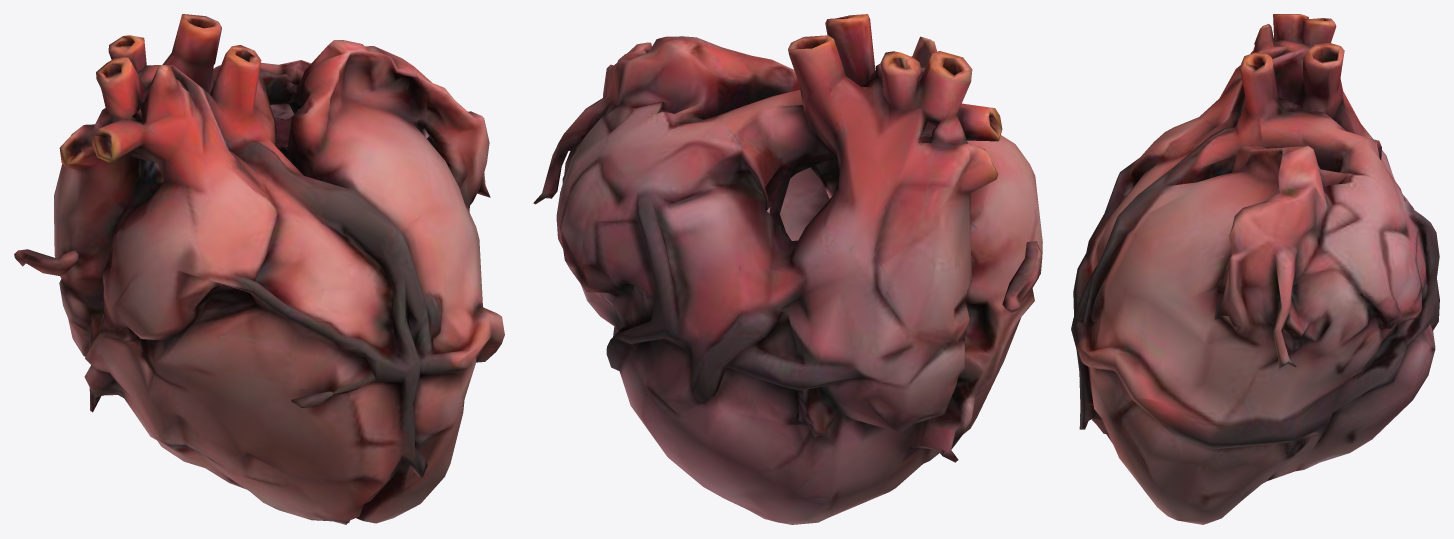
File: heart.glb
3 views of the same model, side by side, from view 1: azimuth 30°, elevation 25°; view 2: azimuth 150°, elevation 25°; view 3: azimuth 270°, elevation 25° (orthographic). The views are drawn at different scales.
Visible parts, largest first — view 1: Mesh_0; view 2: Mesh_0; view 3: Mesh_0.
Part boxes in pixels (x1,y1,x2,y2): Mesh_0: (14, 14, 504, 524); Mesh_0: (533, 14, 1042, 524); Mesh_0: (1071, 14, 1439, 524).
Bounding box in the file's own units: 1.99 × 2 × 1.57.
Materials: 1 (1 with a texture image).
